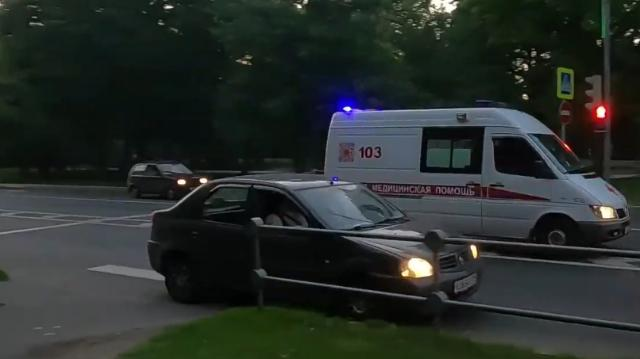ambulance: (327, 109, 631, 259)
non emergency car: (147, 174, 484, 319), (126, 159, 210, 201)
